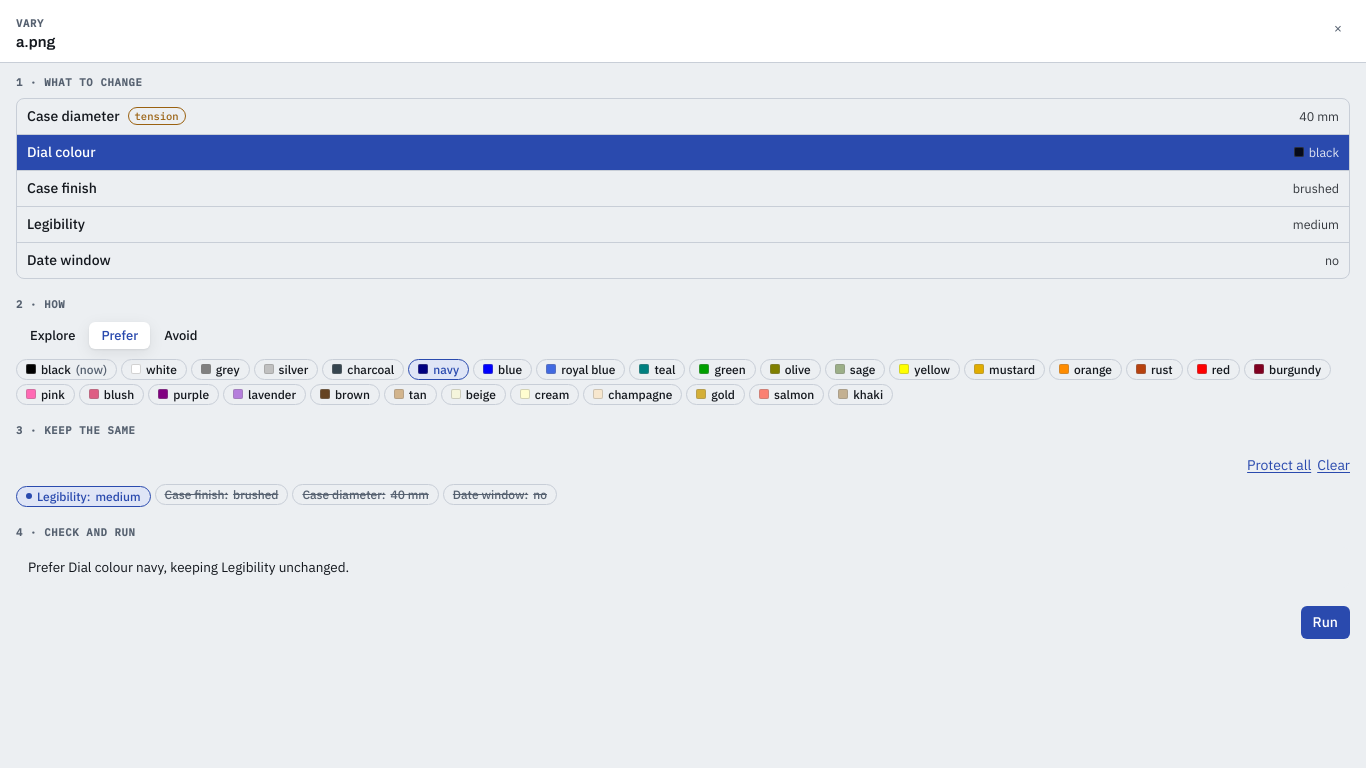
VaryPanel › Protect all selects every chip and Clear releases them
Click the button "Protect all": (1279, 466) [1247,455,1311,476]
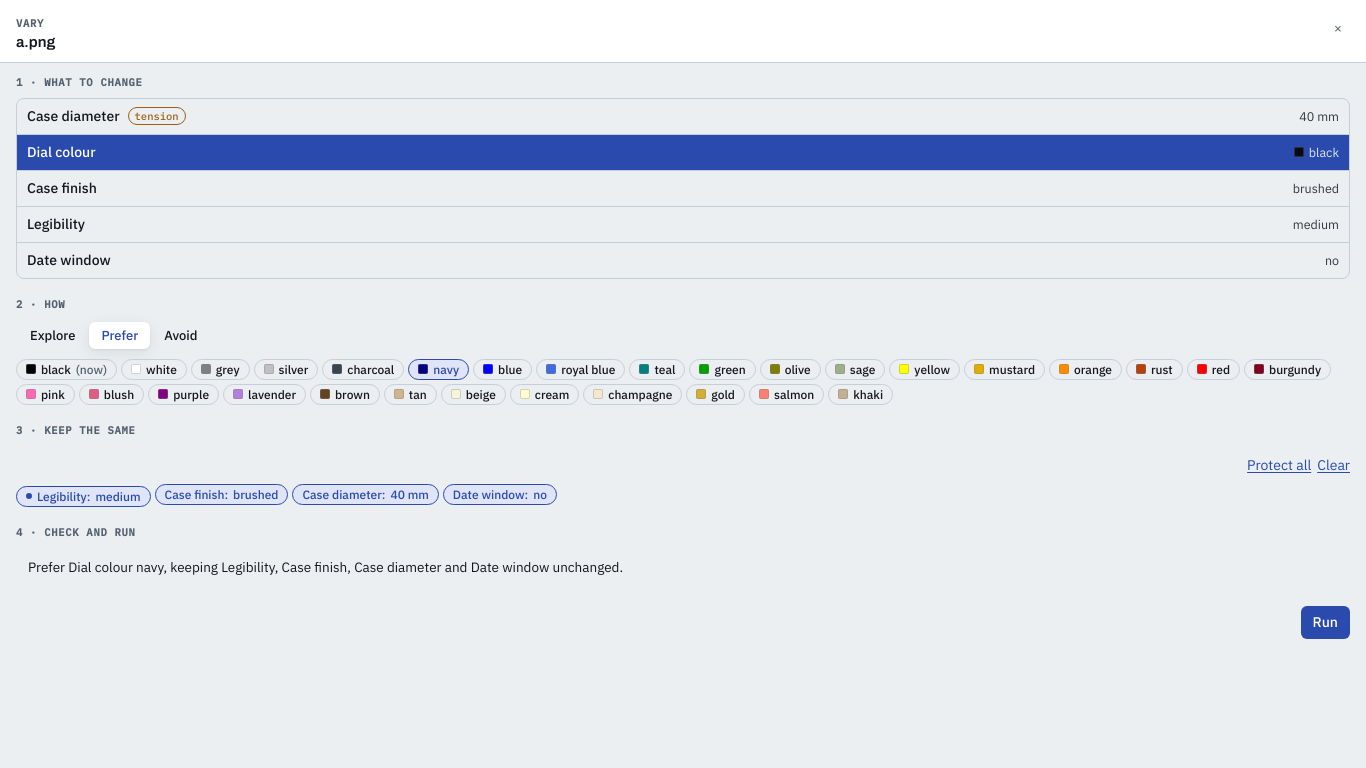
Expected: the number of buttons named "Unprotect " is 4, [16,486,150,507]; [154,484,288,505]; [292,484,439,505]; [443,484,557,505]
Expected: the text "Prefer Dial colour navy, keeping Legibility, Case finish, Case diameter and Date window unchanged." is shown, [28,558,623,576]
Click the button "Clear": (1334, 466) [1317,455,1350,476]
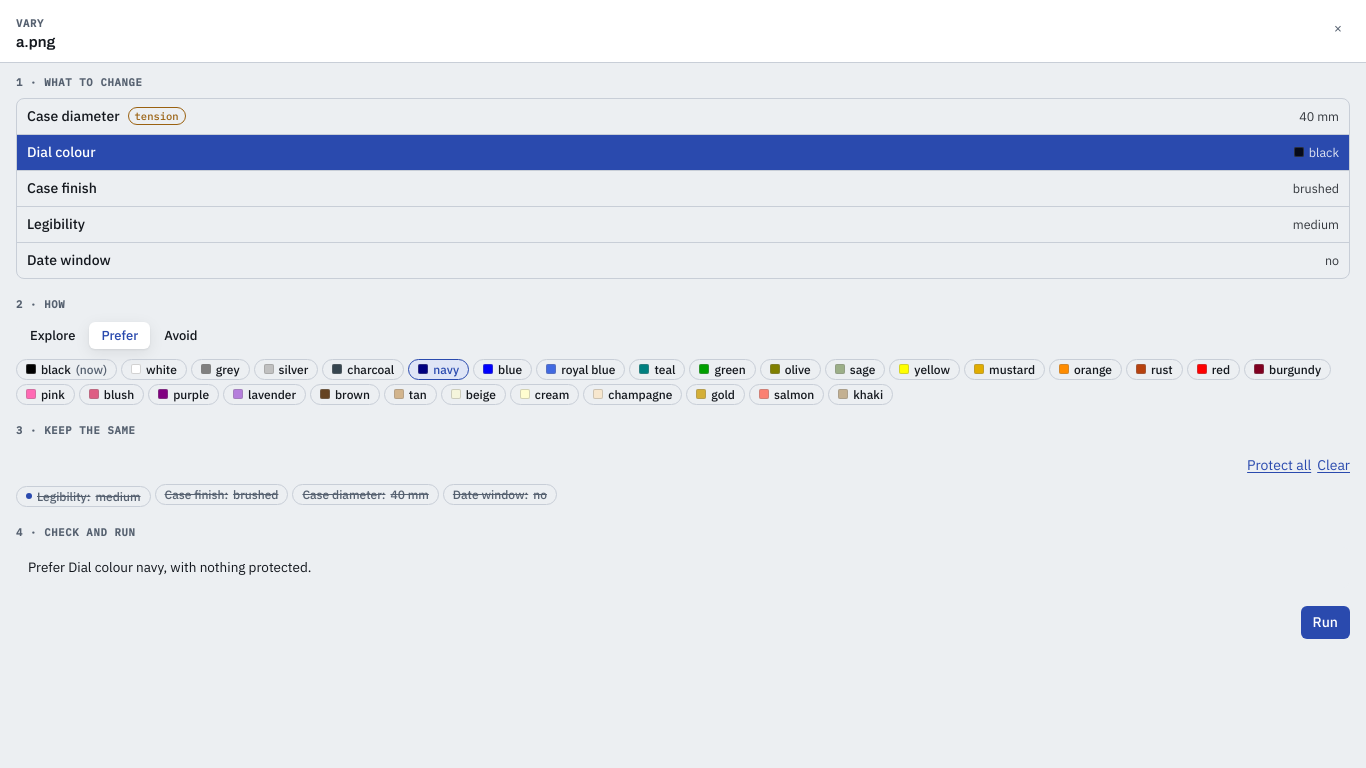
Expected: the text "Prefer Dial colour navy, with nothing protected." is shown, [28,558,311,576]
